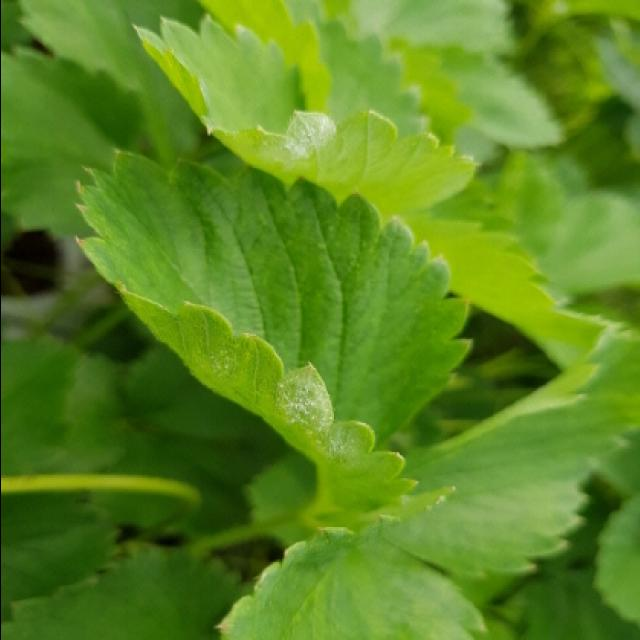Powdery Mildew Leaf: (72, 147, 475, 527)
